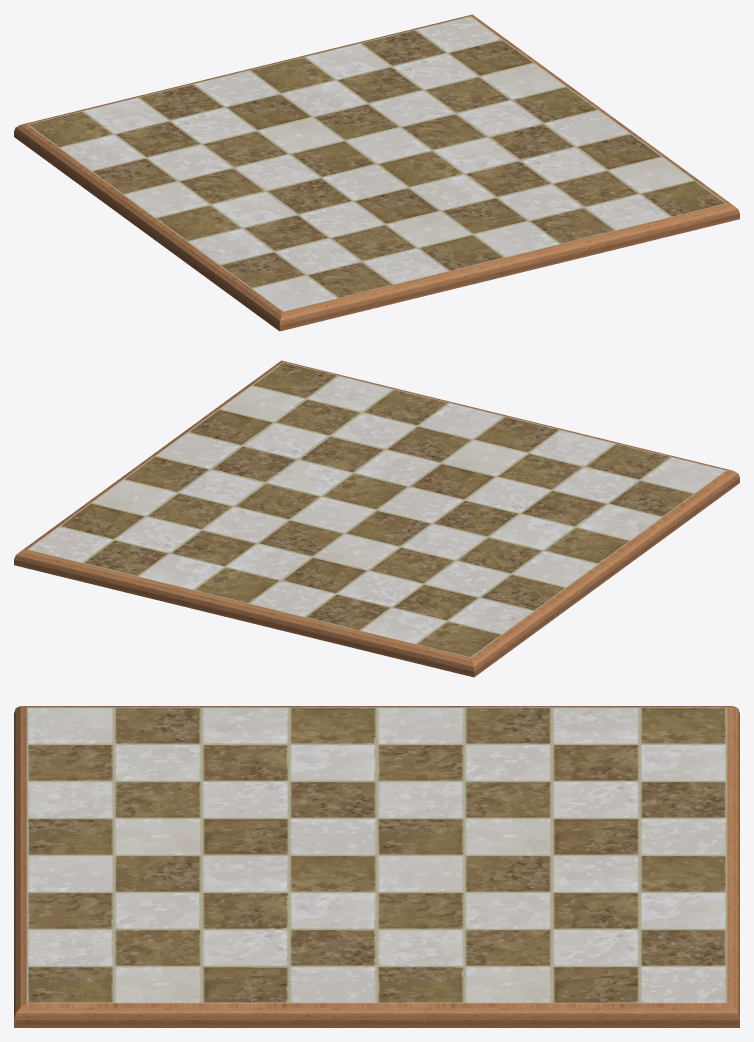
The model's file is chessboard1.fbx.
3 views of the same model, one above another, from view 1: azimuth 30°, elevation 25°; view 2: azimuth 150°, elevation 25°; view 3: azimuth 270°, elevation 25° (orthographic). The views are drawn at different scales.
Visible parts, largest first — view 1: Cube; view 2: Cube; view 3: Cube.
Boxes of the visible parts, <box> form: Cube: <box>14,14,739,331</box>; Cube: <box>14,360,739,677</box>; Cube: <box>14,706,739,1027</box>.
Bounding box in the file's own units: 200 × 5.83 × 200.
2 materials, 2 textured.
